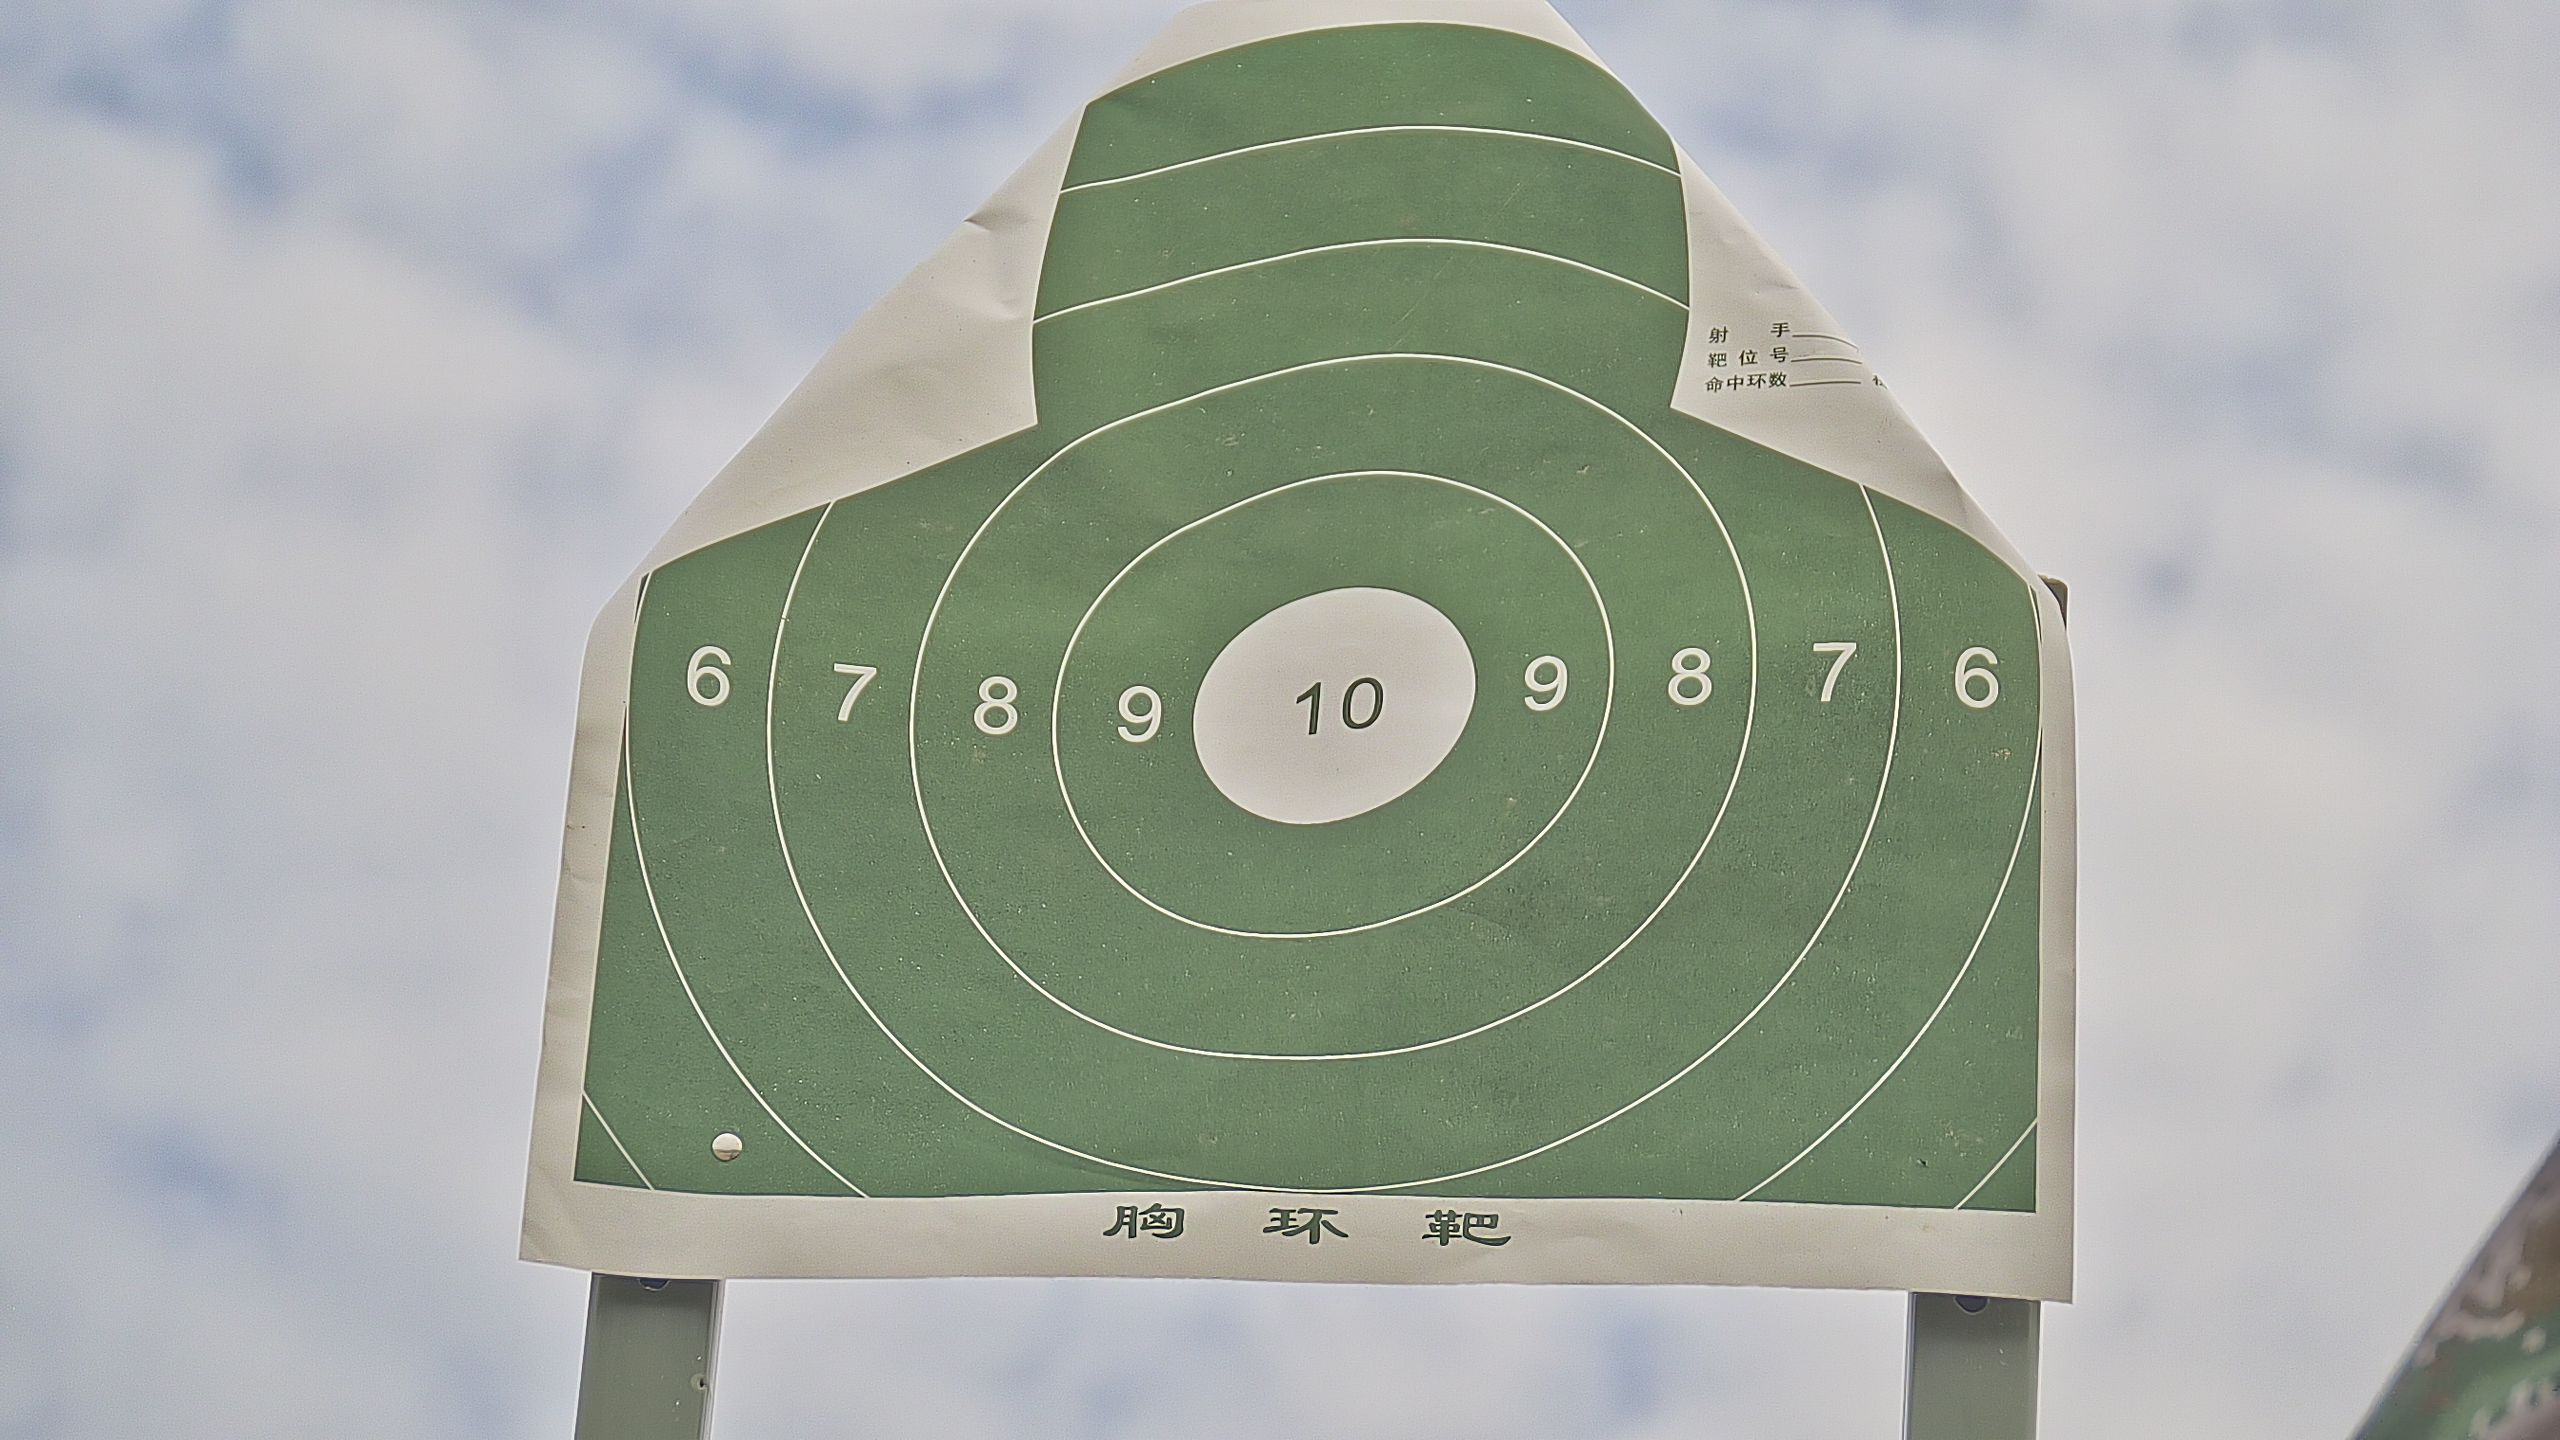kernel: (1327, 707, 1333, 710)
target: (571, 25, 2040, 1217)
ten: (1189, 585, 1475, 826)
